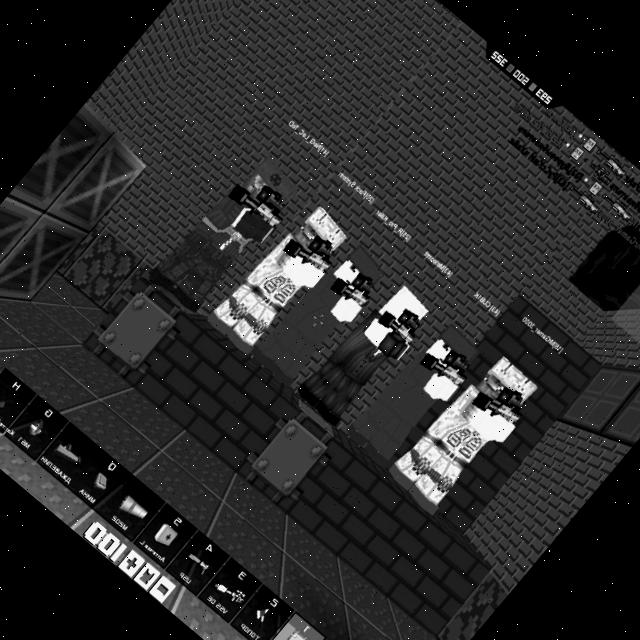Head: (231, 152, 304, 225), (418, 318, 487, 388), (474, 354, 542, 421), (288, 202, 354, 268), (370, 280, 434, 346), (326, 242, 390, 307)
Player: (380, 341, 554, 528), (141, 142, 309, 323), (197, 192, 358, 366), (333, 307, 494, 480), (290, 272, 444, 438), (246, 232, 396, 396)
